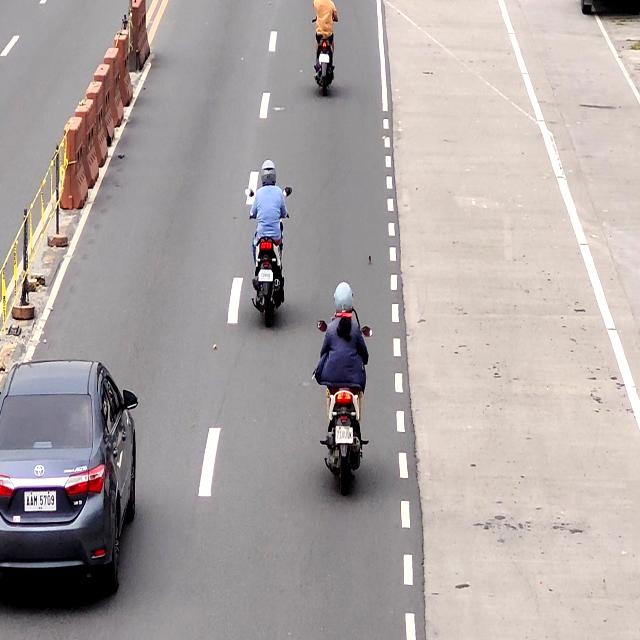Car: (0, 356, 133, 594)
License-Plate: (23, 489, 58, 515), (334, 426, 354, 443), (258, 268, 275, 282), (317, 54, 331, 64)
Motorcycle: (312, 282, 373, 508), (243, 160, 289, 325), (313, 0, 338, 98)
